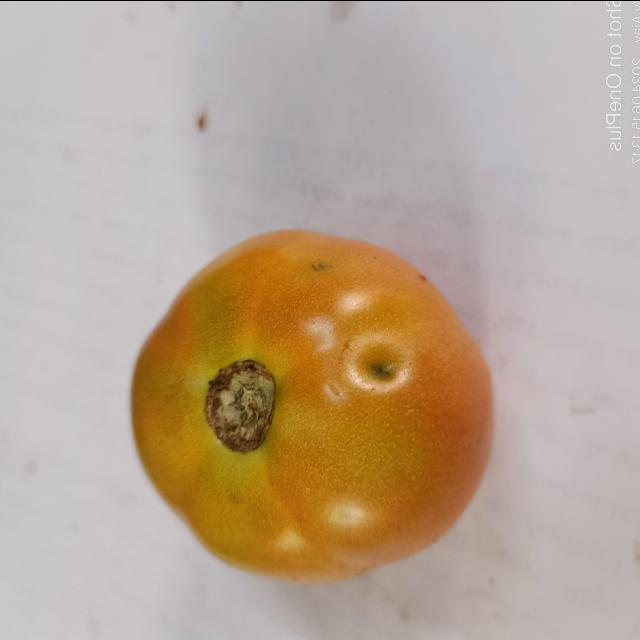Bacterial_Spot: (365, 351, 399, 389)
